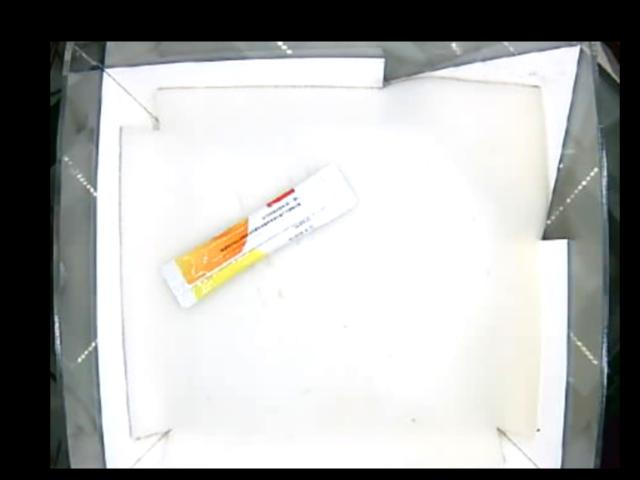Medicine: (159, 160, 356, 306)
